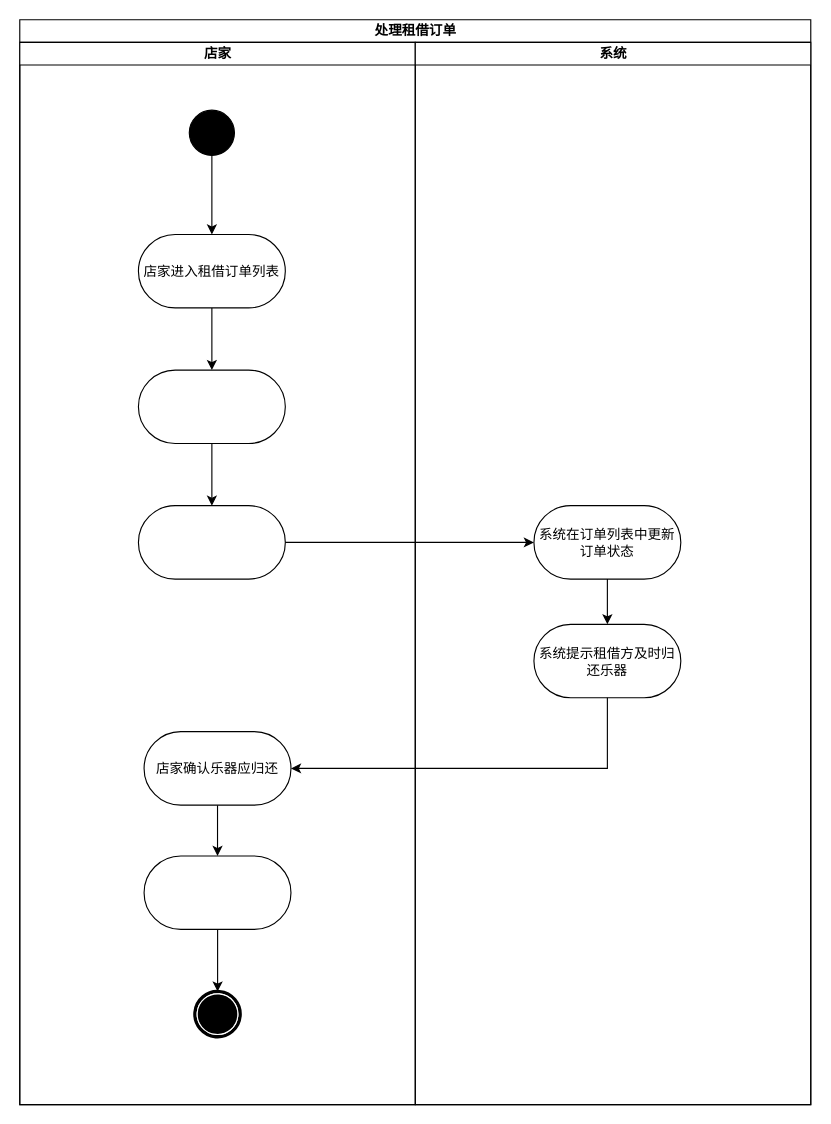
Some shapes in this 831 by 1124 pixel diagram are drawn without their labels. Here are the shapes that lost their labels. From the top down, the centre of each, then its label:
At point (211, 406): "店家选择要处理的订单".
At point (211, 542): "店家选择发货".
At point (217, 892): "店家退回租借押金".
